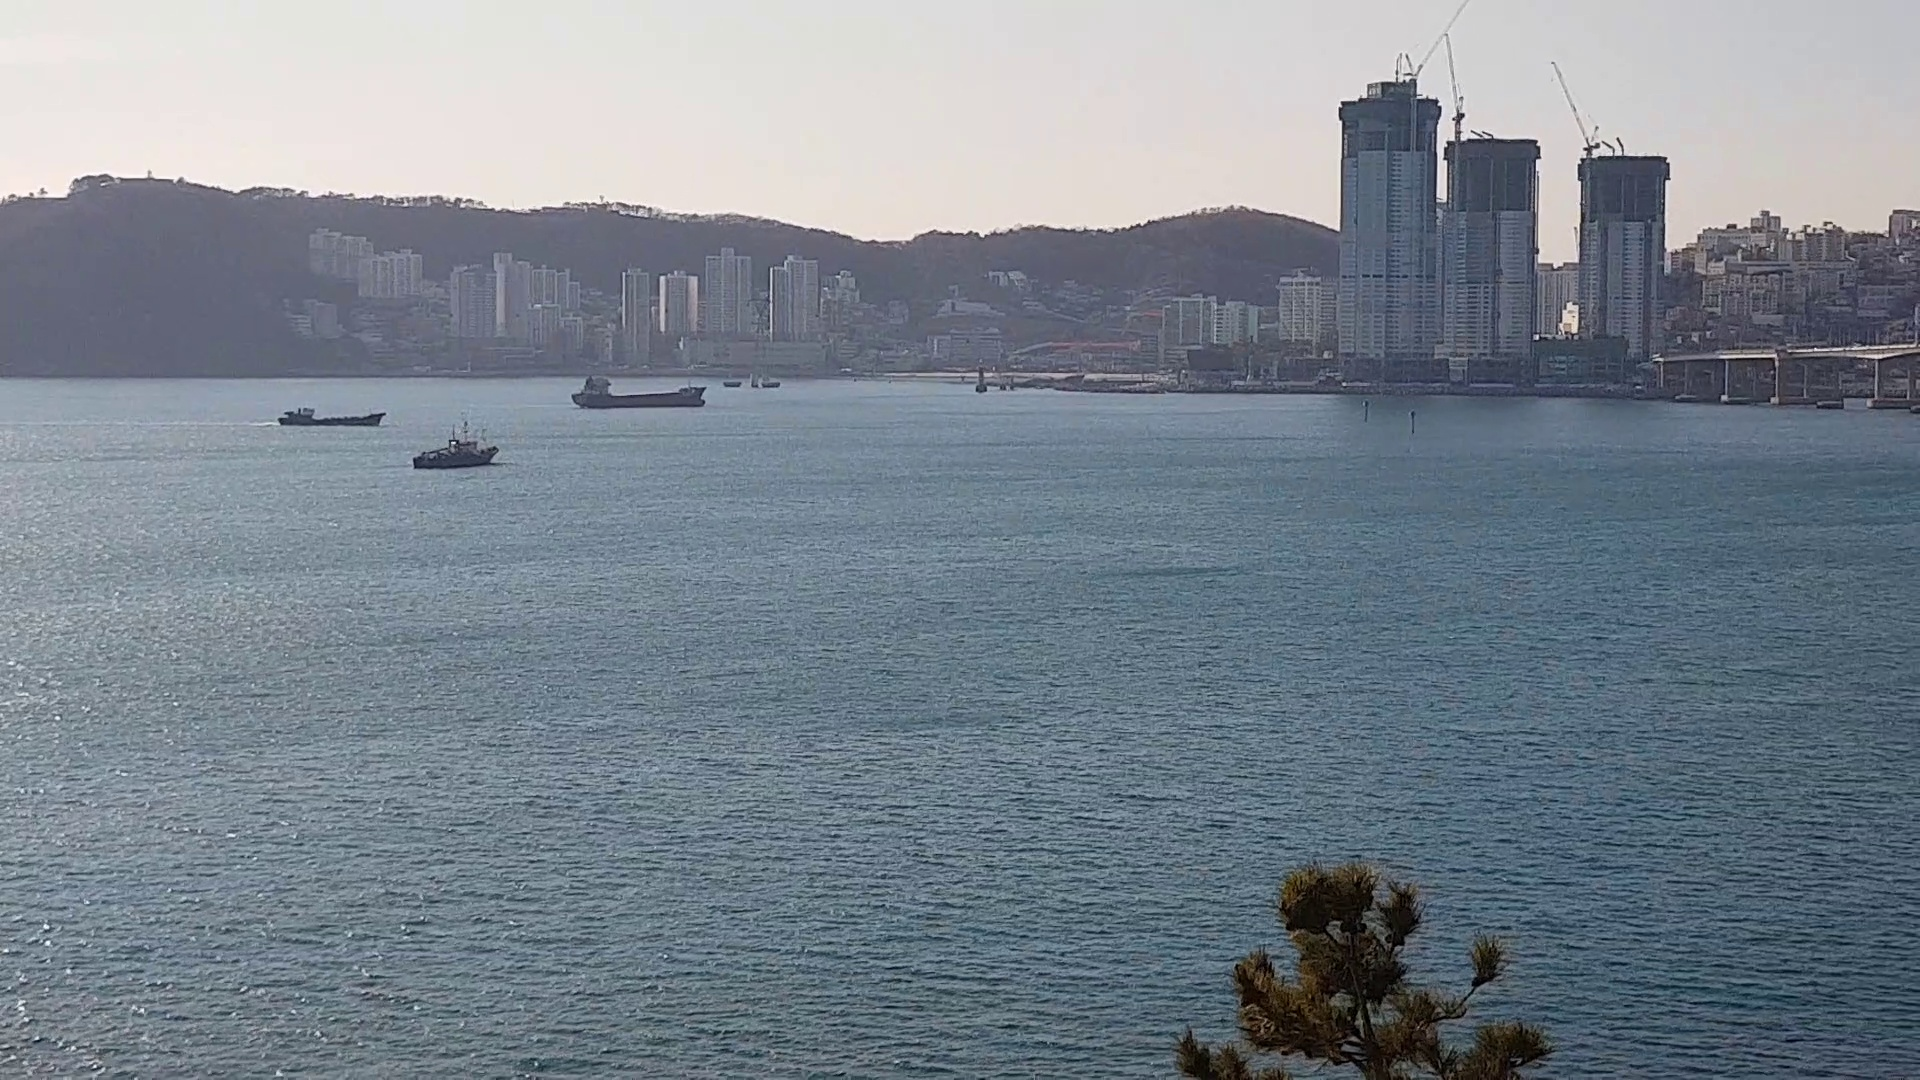Bulk_Carrier: (563, 382, 712, 411), (407, 436, 502, 465), (268, 407, 388, 429)
